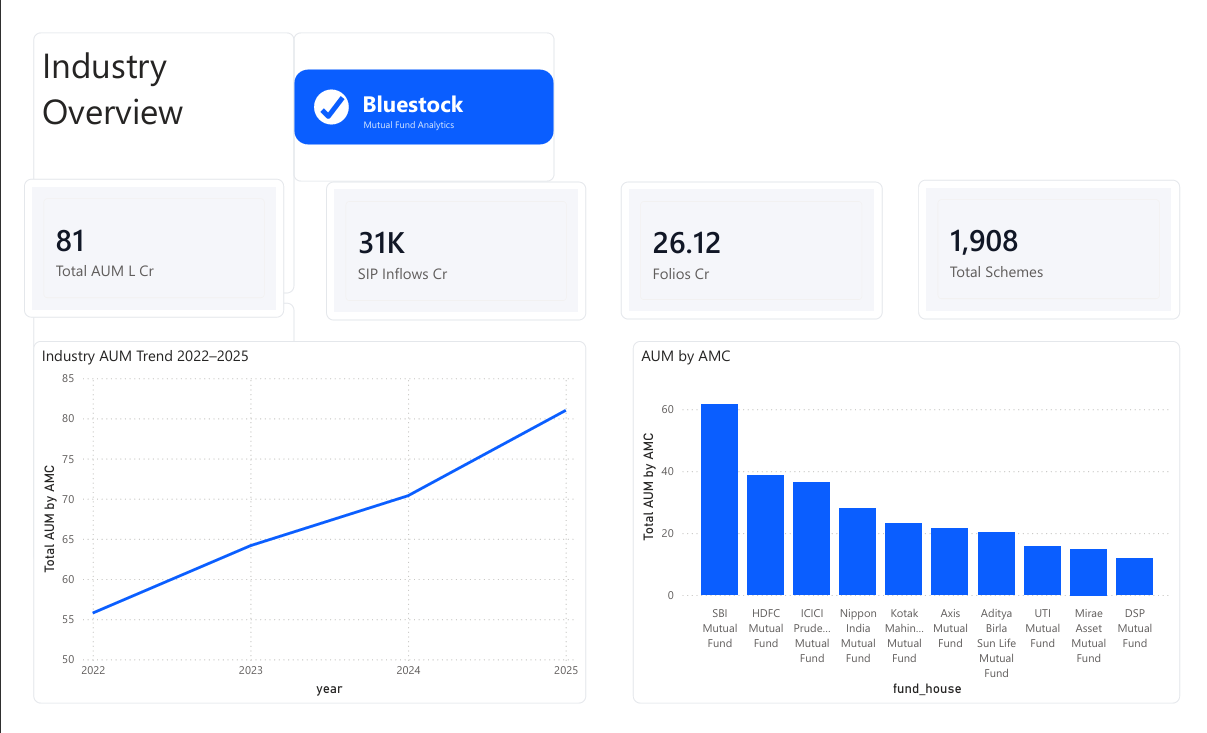

The dashboard page shown, as its layout file describes it:
{"tool":"powerbi","page":{"name":"Industry Overview","canvas":[1280,720],"ordinal":0},"visuals":[{"type":"textbox","box":[10,0,280,280],"z":0},{"type":"textbox","box":[10,290,280,280],"z":1},{"type":"cardVisual","fields":{"Data":["dim_date.Total AUM L Cr"]},"box":[0,156.8,279.4,149.7],"z":2},{"type":"cardVisual","fields":{"Data":["dim_date.SIP Inflows Cr"]},"box":[323.6,159.6,279.4,149.7],"z":3},{"type":"cardVisual","fields":{"Data":["dim_date.Folios Cr"]},"box":[640,159.6,280.8,148.2],"z":4},{"type":"cardVisual","fields":{"Data":["dim_date.Total Schemes Text"]},"box":[959.3,158.2,280.8,149.7],"z":5},{"type":"lineChart","title":"Industry AUM Trend 2022–2025","fields":{"Category":["fact_aum.year"],"Y":["dim_date.Total AUM by AMC"]},"box":[10,330.7,593,389.1],"z":6},{"type":"clusteredColumnChart","title":"AUM by AMC","fields":{"Category":["fact_aum.fund_house"],"Y":["dim_date.Total AUM by AMC"]},"box":[652.8,330.7,587.3,389.1],"z":7},{"type":"image","box":[289.4,0,279.4,159.6],"z":8}]}

Visuals, with their boxes on the page's 1280x720 design canvas (x1, y1, x2, y2). These are canvas units, not pixel positions in the 1207x733 screenshot, which may show the page scaled, cropped or inside an application window:
textbox: x1=10 y1=0 x2=290 y2=280
textbox: x1=10 y1=290 x2=290 y2=570
cardVisual - dim_date.Total AUM L Cr: x1=0 y1=157 x2=279 y2=306
cardVisual - dim_date.SIP Inflows Cr: x1=324 y1=160 x2=603 y2=309
cardVisual - dim_date.Folios Cr: x1=640 y1=160 x2=921 y2=308
cardVisual - dim_date.Total Schemes Text: x1=959 y1=158 x2=1240 y2=308
"Industry AUM Trend 2022–2025" lineChart: x1=10 y1=331 x2=603 y2=720
"AUM by AMC" clusteredColumnChart: x1=653 y1=331 x2=1240 y2=720
image: x1=289 y1=0 x2=569 y2=160
